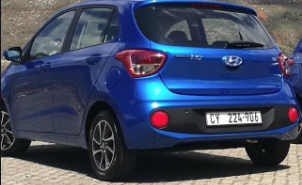car: (1, 1, 299, 181)
